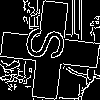S: (25, 25, 75, 64)
